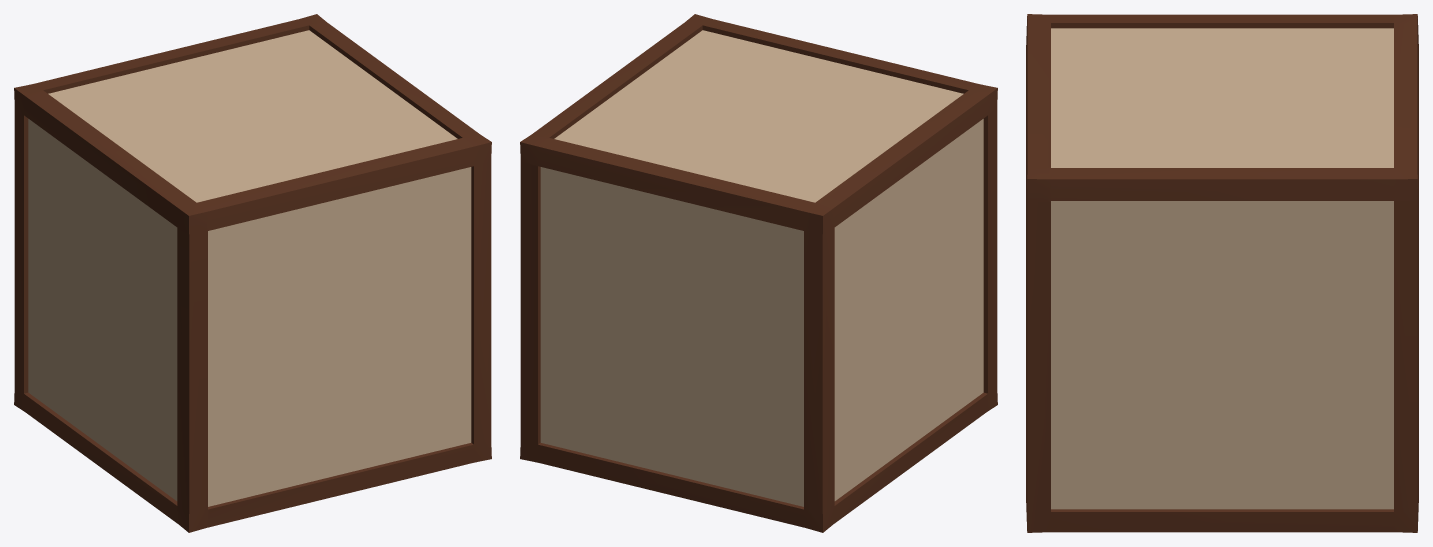
Rendered from DebugBox.fbx.
3 renders of one model, left to right at view 1: azimuth 30°, elevation 25°; view 2: azimuth 150°, elevation 25°; view 3: azimuth 270°, elevation 25°, orthographic. The views are drawn at different scales.
Visible parts, largest first — view 1: Cube; view 2: Cube; view 3: Cube.
Boxes of the visible parts, left/top/right/bottom form: Cube: left=14, top=14, right=491, bottom=532; Cube: left=520, top=14, right=997, bottom=532; Cube: left=1026, top=14, right=1418, bottom=532.
Size of the model in its own units: 206 by 206 by 206.
